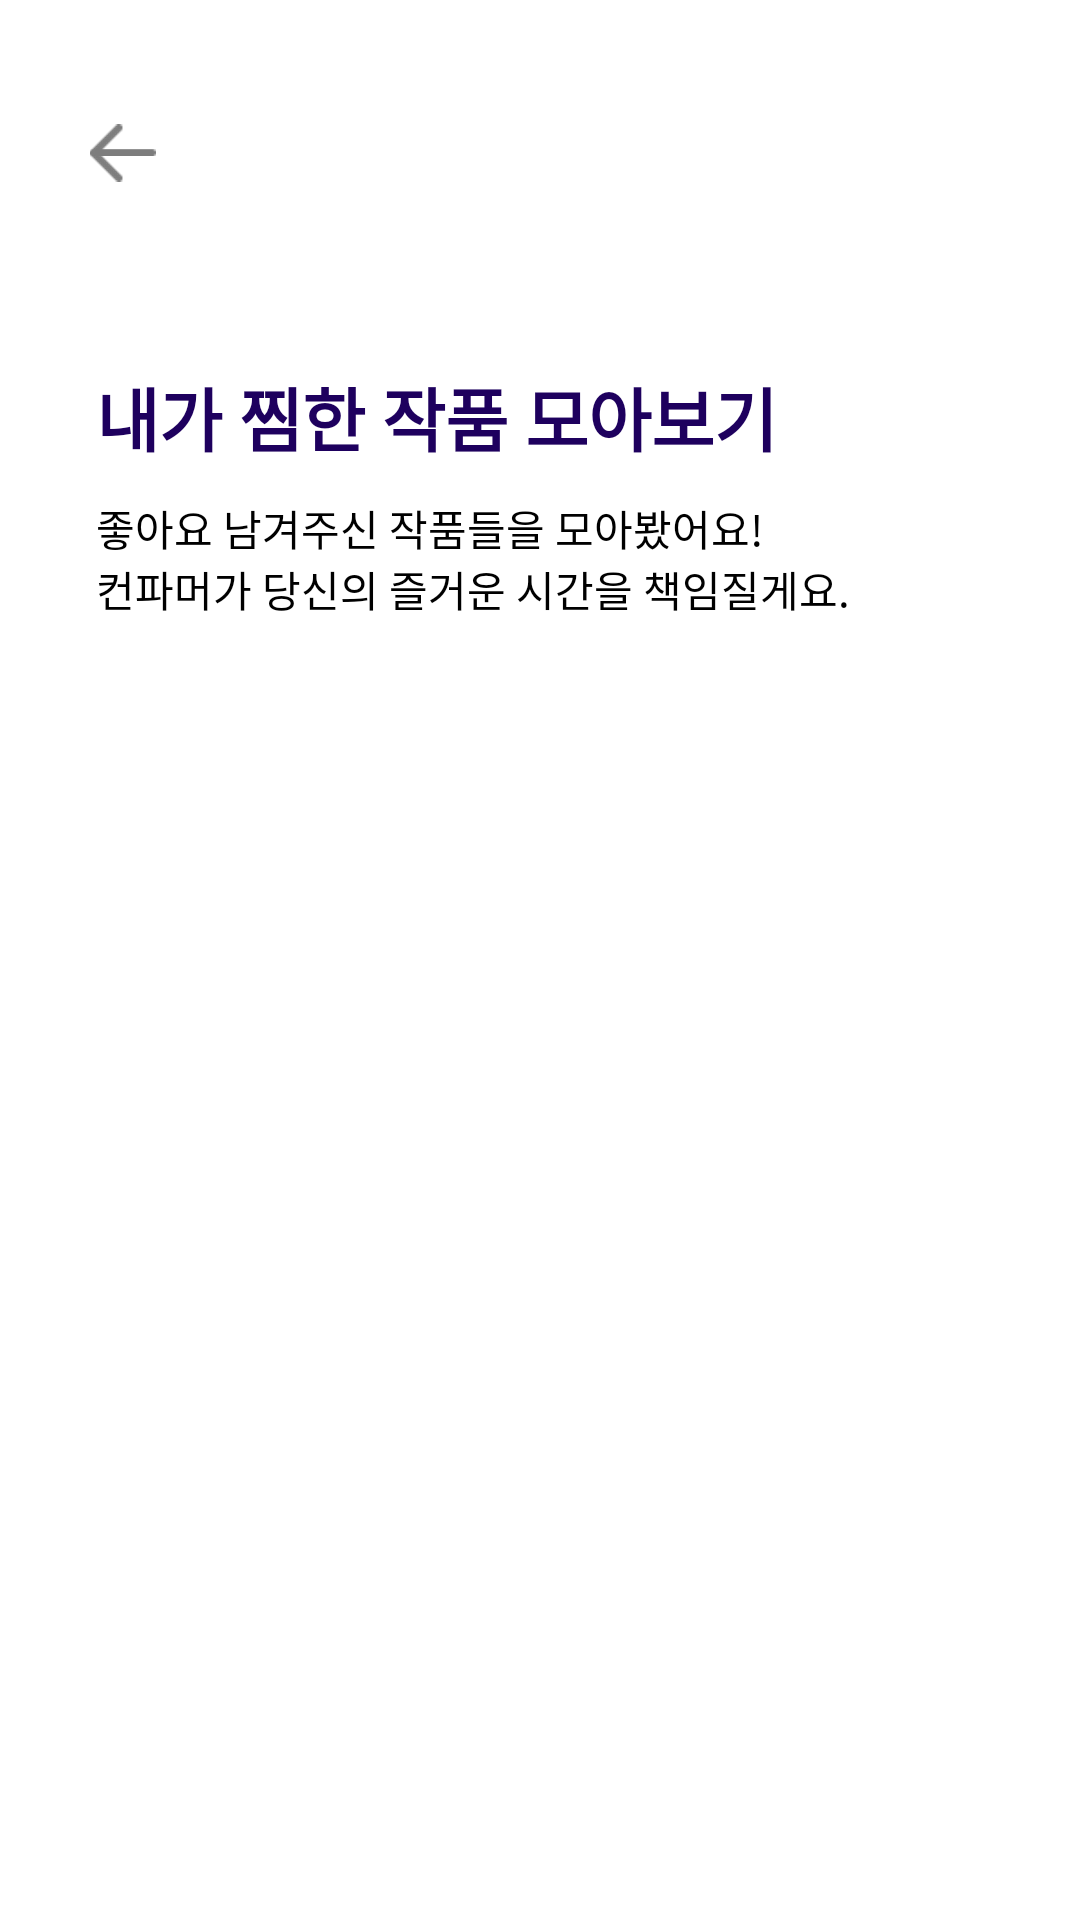

Icons on this 1080*1920 Android screen, each with its box as bbox=(x1, y1, x2, y2):
back: bbox=(90, 124, 156, 182)
